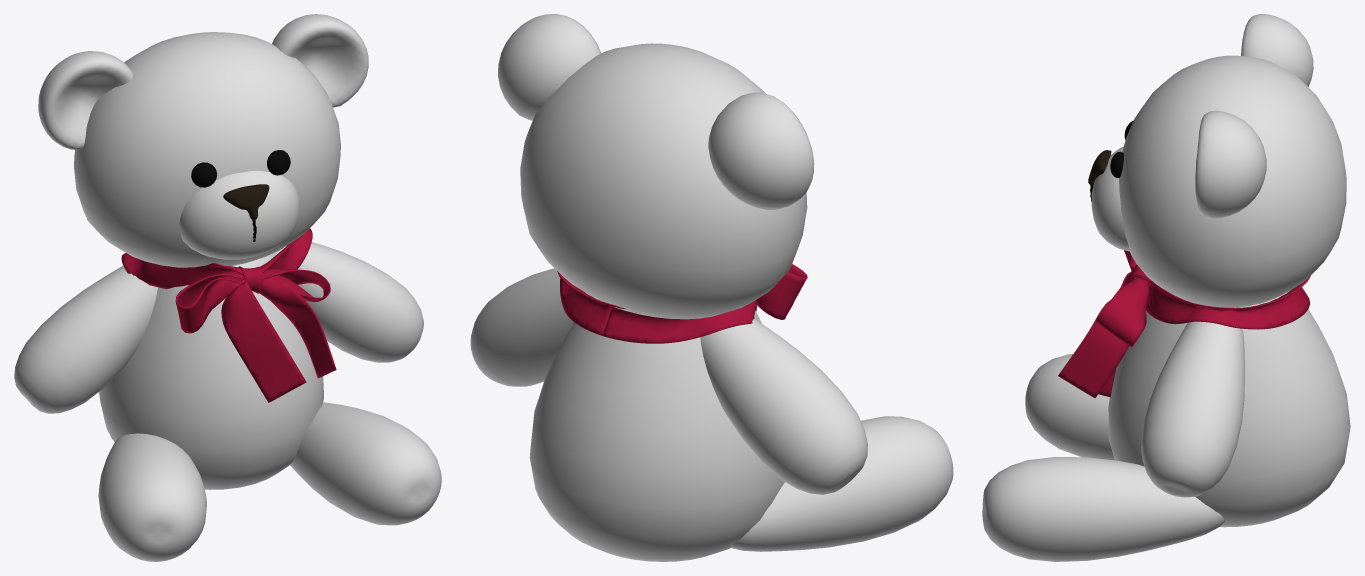
The model's file is blanco.dae.
3 renders of one model, left to right at view 1: azimuth 30°, elevation 25°; view 2: azimuth 150°, elevation 25°; view 3: azimuth 270°, elevation 25°, orthographic. The views are drawn at different scales.
Parts seen in each view (by area): view 1: bear.002, bow_bear; view 2: bear.002, bow_bear; view 3: bear.002, bow_bear.
Boxes of the visible parts, bbox=[...] form: bear.002: bbox=[14, 14, 441, 561]; bow_bear: bbox=[121, 228, 336, 402]; bear.002: bbox=[470, 14, 953, 561]; bow_bear: bbox=[557, 264, 807, 343]; bear.002: bbox=[982, 14, 1350, 561]; bow_bear: bbox=[1058, 250, 1310, 398].
Bounding box in the file's own units: 0.1246 × 0.1052 × 0.1416.
